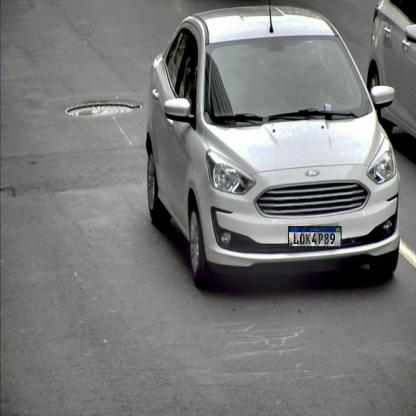PlacaM: (288, 226, 342, 248)
